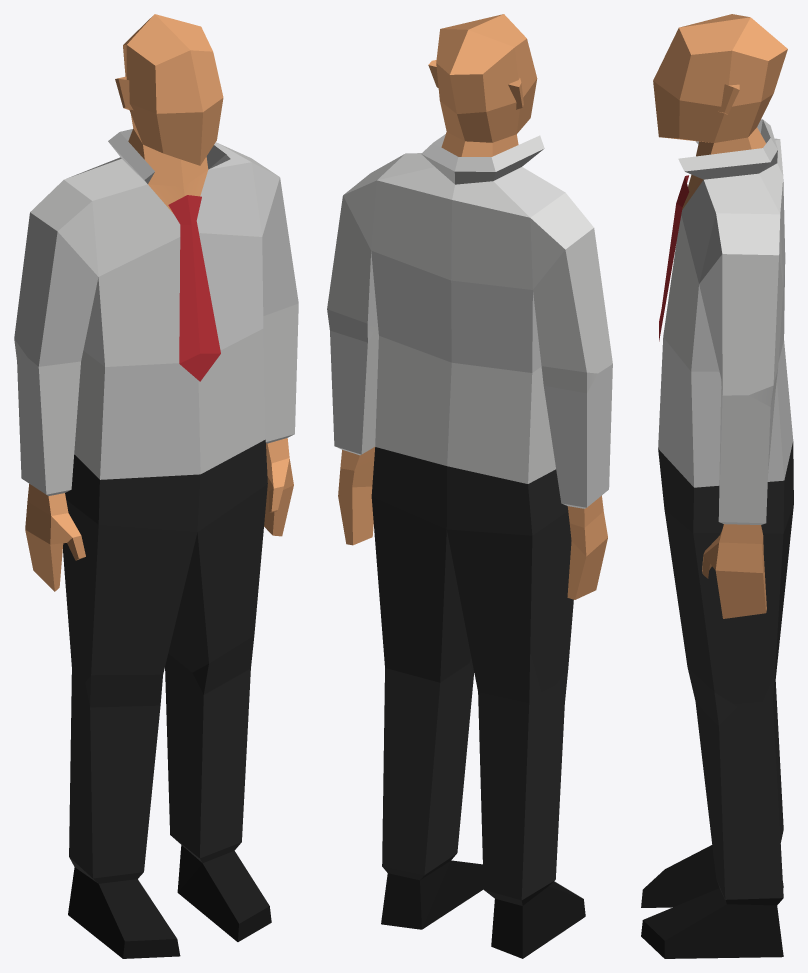
The model's file is people_man-tie-bold.fbx.
The picture shows the model from 3 angles, left to right: view 1: azimuth 30°, elevation 25°; view 2: azimuth 150°, elevation 25°; view 3: azimuth 270°, elevation 25°; orthographic projection.
Parts seen in each view (by area): view 1: people_man_tie_bold; view 2: people_man_tie_bold; view 3: people_man_tie_bold.
Boxes of the visible parts, bbox=[...] form: people_man_tie_bold: bbox=[14, 14, 298, 958]; people_man_tie_bold: bbox=[327, 14, 612, 958]; people_man_tie_bold: bbox=[641, 14, 793, 958].
Size of the model in its own units: 60.75 by 200 by 30.62.
